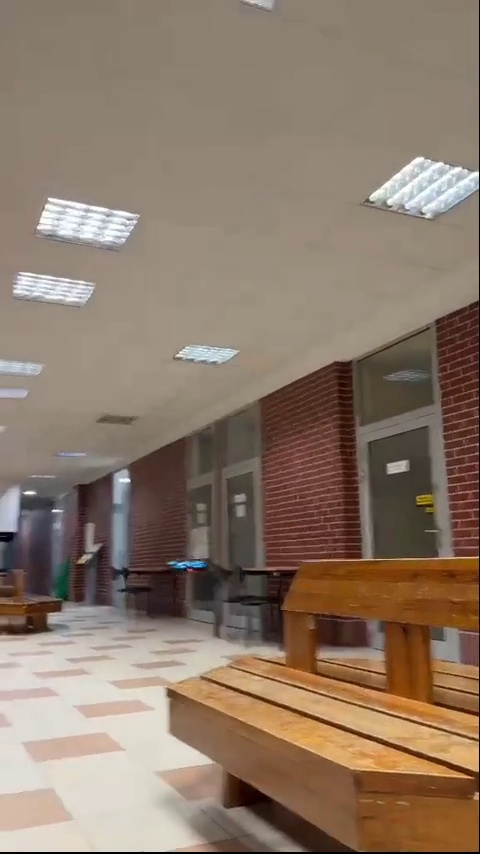drone: (166, 560, 210, 574)
